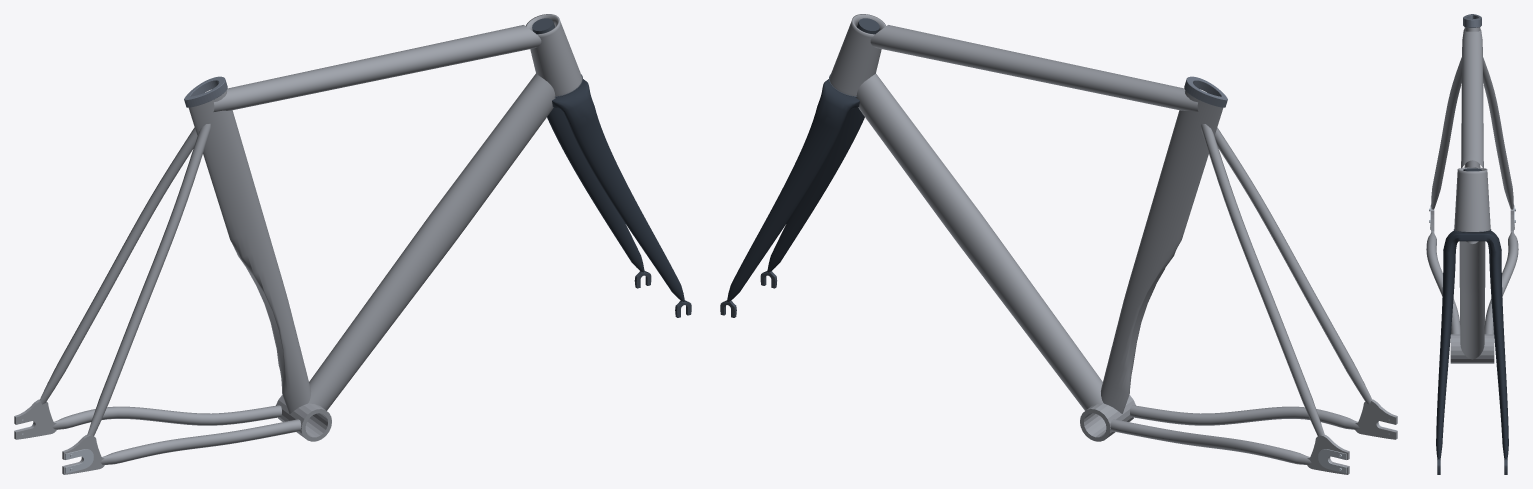
Rendered from cinelli-vigorelli-rainbow-xs.glb.
3 renders of one model, left to right at view 1: azimuth 30°, elevation 25°; view 2: azimuth 150°, elevation 25°; view 3: azimuth 270°, elevation 25°, orthographic. The views are drawn at different scales.
Parts seen in each view (by area): view 1: paint_down, paint_seat, paint_top, fork_blade_1, paint_seatstay_1, paint_seatstay_-1, fork_blade_-1, paint_chainstay_-1, paint_chainstay_1, paint_head, paint_bottom_bracket, rear_dropout_-1 (+3 smaller); view 2: paint_down, paint_seat, paint_top, fork_blade_-1, paint_seatstay_-1, paint_seatstay_1, fork_blade_1, paint_chainstay_1, paint_chainstay_-1, paint_head, paint_bottom_bracket, rear_dropout_1 (+3 smaller); view 3: paint_top, paint_down, paint_head, fork_blade_1, fork_blade_-1, paint_seatstay_-1, paint_seatstay_1, paint_bottom_bracket, paint_chainstay_-1, paint_chainstay_1, fork_crown, seat_collar (+1 smaller).
Boxes of the visible parts, x1=… form: paint_down: x1=308, y1=73, x2=555, y2=410; paint_seat: x1=188, y1=90, x2=310, y2=413; paint_top: x1=213, y1=25, x2=541, y2=111; fork_blade_1: x1=568, y1=108, x2=684, y2=301; paint_seatstay_1: x1=87, y1=124, x2=210, y2=435; paint_seatstay_-1: x1=39, y1=127, x2=197, y2=404; fork_blade_-1: x1=547, y1=107, x2=644, y2=272; paint_chainstay_-1: x1=52, y1=405, x2=281, y2=429; paint_chainstay_1: x1=100, y1=419, x2=301, y2=464; paint_head: x1=526, y1=14, x2=582, y2=96; paint_bottom_bracket: x1=276, y1=395, x2=331, y2=441; rear_dropout_-1: x1=14, y1=399, x2=56, y2=439; paint_down: x1=856, y1=73, x2=1103, y2=410; paint_seat: x1=1101, y1=90, x2=1223, y2=413; paint_top: x1=870, y1=25, x2=1198, y2=111; fork_blade_-1: x1=727, y1=108, x2=843, y2=301; paint_seatstay_-1: x1=1201, y1=124, x2=1324, y2=435; paint_seatstay_1: x1=1214, y1=127, x2=1372, y2=404; fork_blade_1: x1=767, y1=107, x2=864, y2=272; paint_chainstay_1: x1=1130, y1=405, x2=1359, y2=429; paint_chainstay_-1: x1=1110, y1=419, x2=1311, y2=464; paint_head: x1=829, y1=14, x2=885, y2=96; paint_bottom_bracket: x1=1080, y1=395, x2=1135, y2=441; rear_dropout_1: x1=1355, y1=399, x2=1397, y2=439; paint_top: x1=1461, y1=29, x2=1483, y2=167; paint_down: x1=1459, y1=241, x2=1485, y2=359; paint_head: x1=1454, y1=167, x2=1490, y2=231; fork_blade_1: x1=1436, y1=250, x2=1455, y2=459; fork_blade_-1: x1=1489, y1=250, x2=1508, y2=459; paint_seatstay_-1: x1=1483, y1=57, x2=1513, y2=209; paint_seatstay_1: x1=1431, y1=57, x2=1461, y2=209; paint_bottom_bracket: x1=1450, y1=334, x2=1494, y2=363; paint_chainstay_-1: x1=1484, y1=231, x2=1518, y2=334; paint_chainstay_1: x1=1426, y1=231, x2=1460, y2=334; fork_crown: x1=1443, y1=230, x2=1501, y2=252; seat_collar: x1=1463, y1=14, x2=1481, y2=27.
Bounding box in the file's own units: 0.9492 × 0.5366 × 0.1443.
